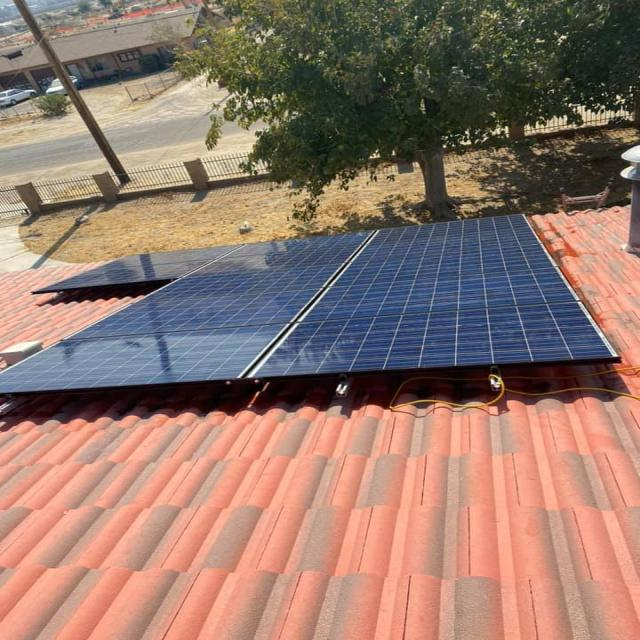dust-solar-panel: (0, 215, 617, 394)
